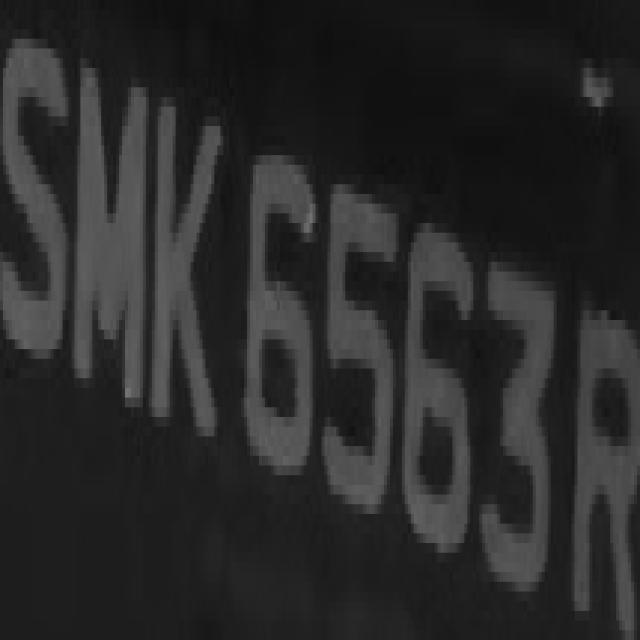3: (2, 3, 3, 10)
5: (312, 145, 399, 562)
6: (235, 116, 316, 534), (399, 184, 476, 572)
K: (152, 58, 232, 485)
M: (71, 39, 155, 446)
R: (3, 4, 3, 10)
S: (0, 9, 74, 407)
